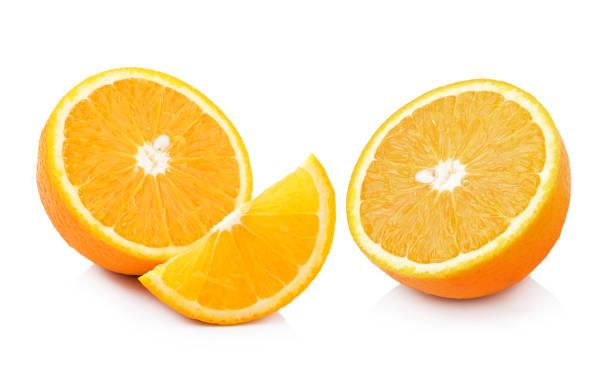orange: (345, 42, 586, 306), (22, 59, 256, 291), (128, 128, 339, 335)
